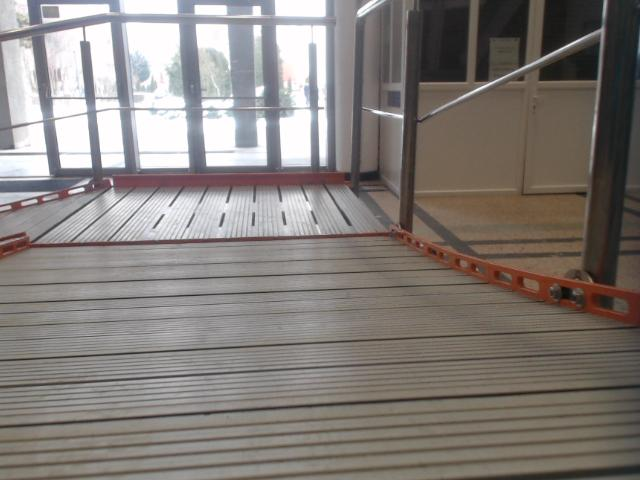rampDown: (0, 170, 639, 479)
ramps-railing: (3, 40, 318, 177), (1, 13, 337, 43), (350, 0, 402, 185)
